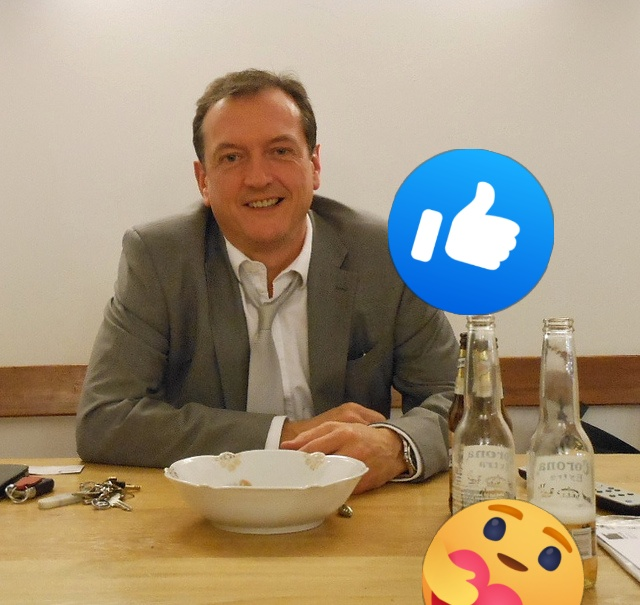care: (422, 499, 584, 605)
like: (388, 149, 554, 315)
